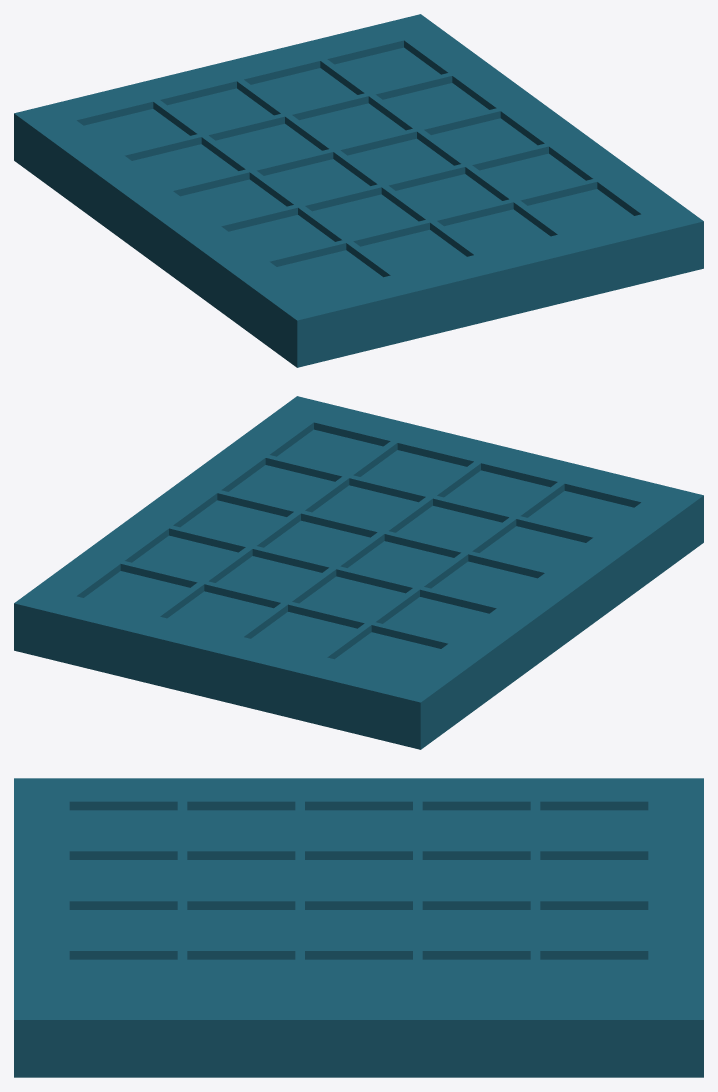
Rendered from Board.fbx.
The picture shows the model from 3 angles, top to bottom: view 1: azimuth 30°, elevation 25°; view 2: azimuth 150°, elevation 25°; view 3: azimuth 270°, elevation 25°; orthographic projection. The views are drawn at different scales.
Parts seen in each view (by area): view 1: Rectangle002; view 2: Rectangle002; view 3: Rectangle002.
Part boxes in pixels (bbox=[...]): Rectangle002: bbox=[14, 14, 703, 367]; Rectangle002: bbox=[14, 396, 703, 749]; Rectangle002: bbox=[14, 778, 703, 1077].
Bounding box in the file's own units: 180 × 20 × 217.
